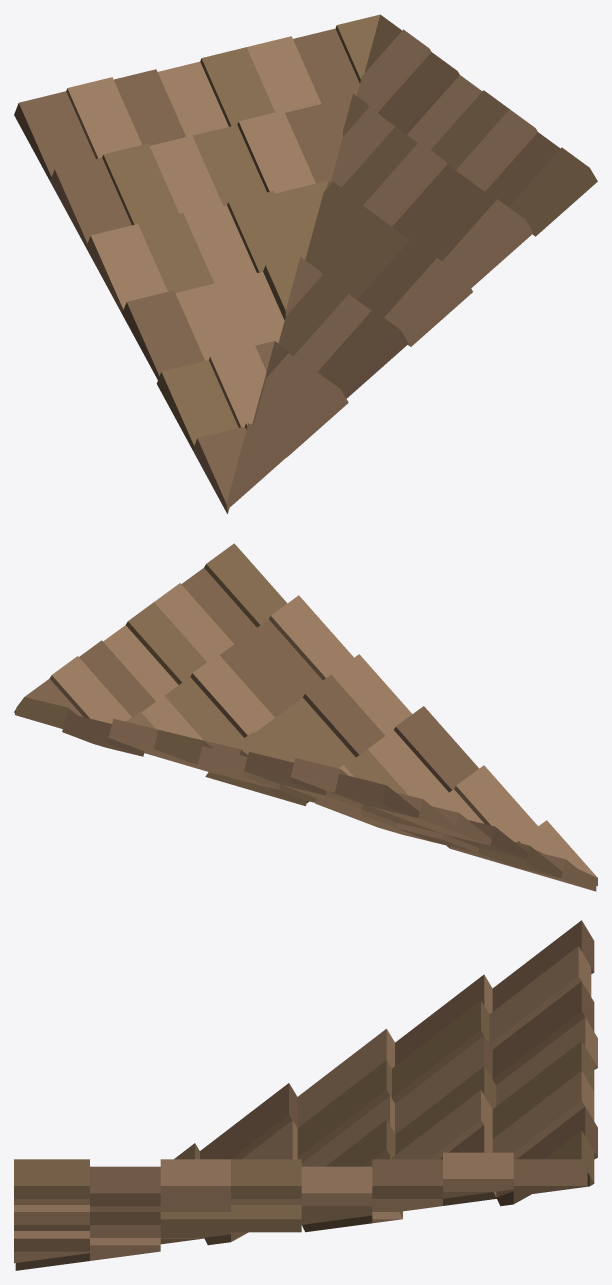
The model's file is fantasy_roof_tile_1_innercorner.fbx.
3 renders of one model, top to bottom at view 1: azimuth 30°, elevation 25°; view 2: azimuth 150°, elevation 25°; view 3: azimuth 270°, elevation 25°, orthographic. The views are drawn at different scales.
Visible parts, largest first — view 1: Cube.041; view 2: Cube.041; view 3: Cube.041.
Part boxes in pixels (left/top/right/bottom): Cube.041: left=14, top=14, right=597, bottom=513; Cube.041: left=14, top=543, right=597, bottom=891; Cube.041: left=14, top=920, right=597, bottom=1270.
Size of the model in its own units: 346 by 233 by 346.
